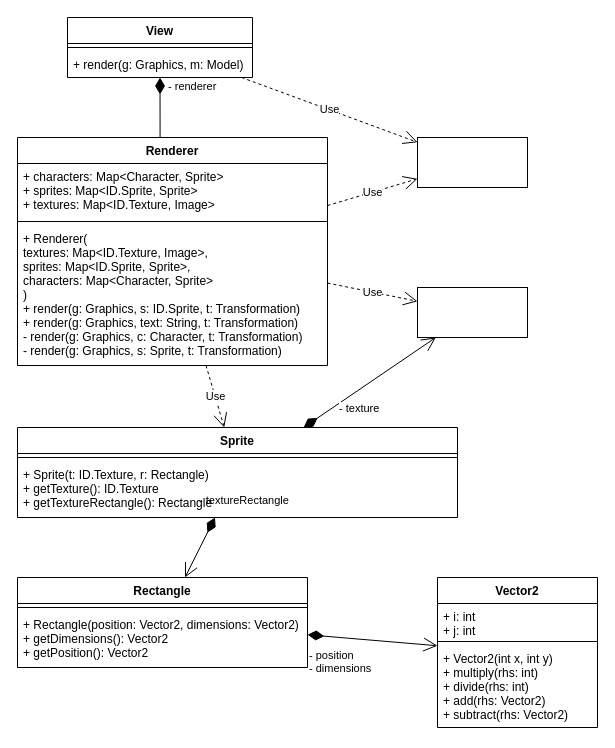
This 615x748 diagram has some shape labels left out. The centre of each missing label's shape, as x and y in pixels:
«enumeration» ID.Sprite: pixel 472 162
«enumeration» ID.Texture: pixel 472 312
